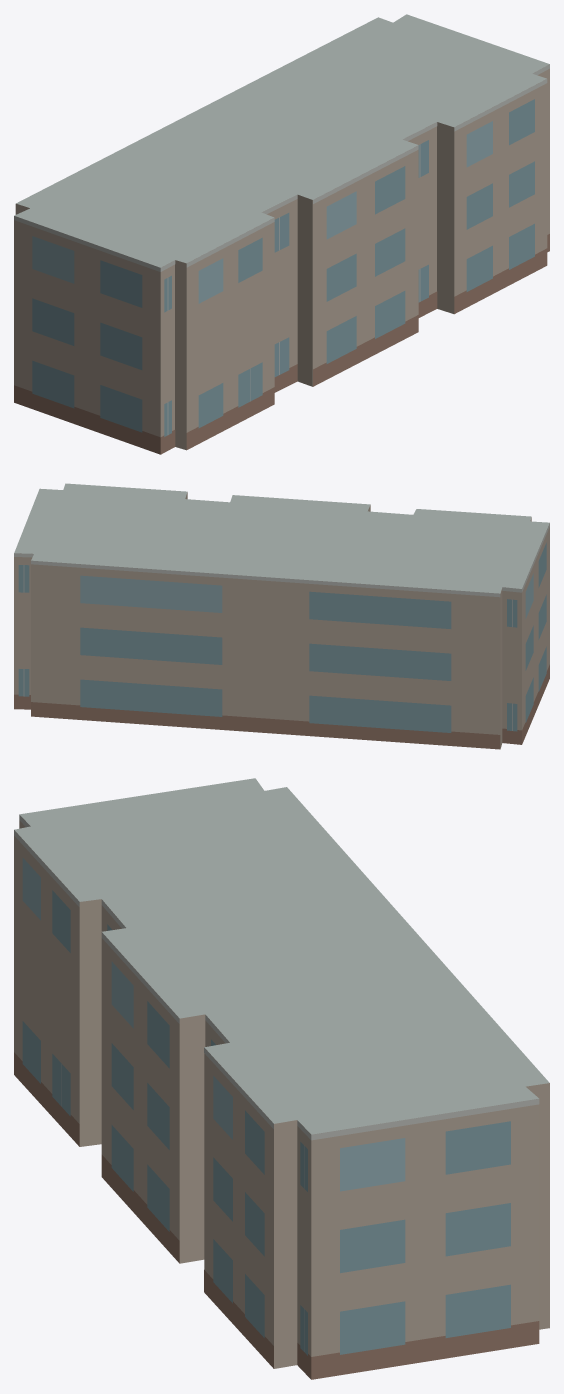
File: survey-upis-32864811.glb
3 renders of one model, top to bottom at view 1: azimuth 30°, elevation 25°; view 2: azimuth 150°, elevation 25°; view 3: azimuth 270°, elevation 25°, orthographic. The views are drawn at different scales.
Visible parts, largest first — view 1: survey-upis-32864811.tmp; view 2: survey-upis-32864811.tmp; view 3: survey-upis-32864811.tmp.
Boxes of the visible parts, x1,y1,x2,y2 form: survey-upis-32864811.tmp: (14,14,549,454); survey-upis-32864811.tmp: (14,483,549,749); survey-upis-32864811.tmp: (14,778,549,1379).
Bounding box in the file's own units: 32.45 × 10.4 × 20.61.
